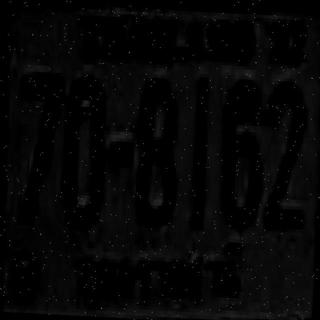N00: (60, 75, 106, 224)
N01: (188, 77, 209, 224)
N02: (263, 78, 306, 226)
N06: (218, 75, 265, 224)
N07: (14, 69, 61, 221)
N08: (134, 74, 179, 222)
P72: (73, 244, 247, 318)
